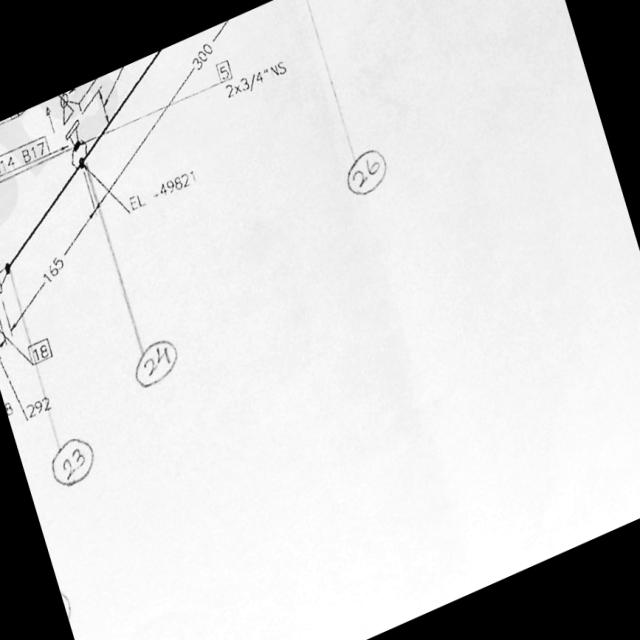Item number: (1, 131, 53, 184), (29, 334, 54, 367), (216, 57, 234, 83)
Measrement: (92, 13, 245, 228), (8, 199, 96, 340), (1, 350, 52, 423), (223, 54, 290, 101)
Pipeline: (7, 47, 168, 278)
Symbol: (52, 84, 81, 131), (67, 127, 92, 172), (1, 259, 13, 280)
Weld number: (49, 433, 97, 491), (133, 336, 180, 391), (345, 145, 389, 197)
other: (123, 165, 198, 217)
